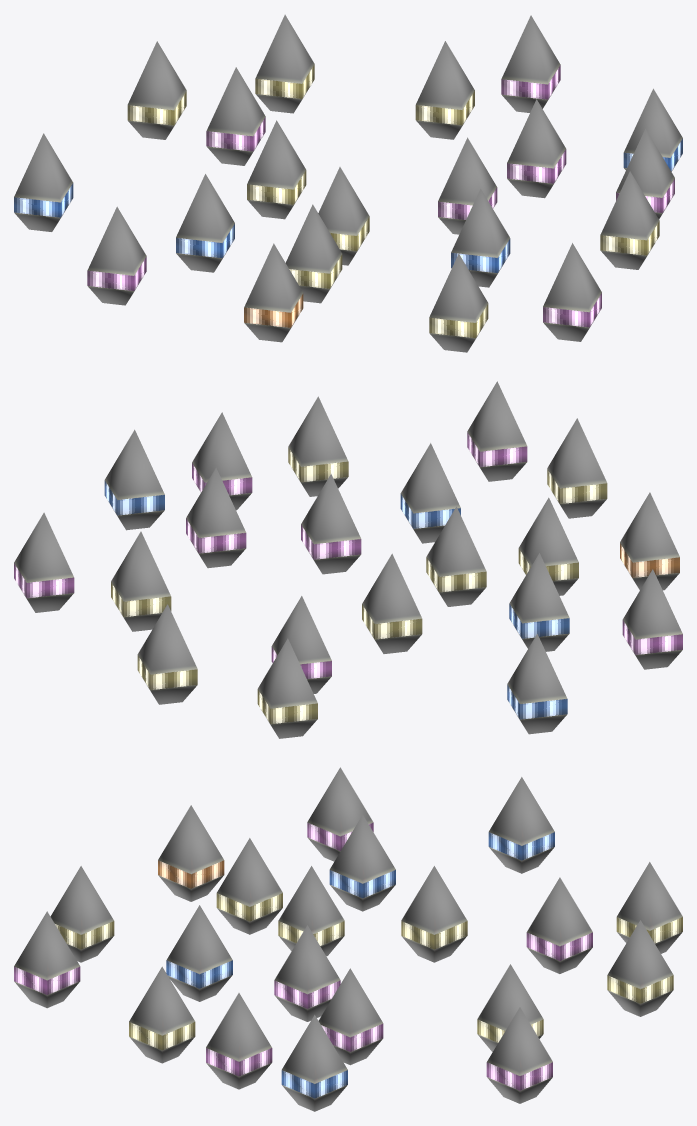
Rendered from dartpile.glb.
The picture shows the model from 3 angles, top to bottom: view 1: azimuth 30°, elevation 25°; view 2: azimuth 150°, elevation 25°; view 3: azimuth 270°, elevation 25°; orthographic projection. The views are drawn at different scales.
Visible parts, largest first — view 1: Fzr_Dart01__Mat_Dart01; view 2: Fzr_Dart01__Mat_Dart01; view 3: Fzr_Dart01__Mat_Dart01.
Part boxes in pixels (x1,y1,x2,y2): Fzr_Dart01__Mat_Dart01: (14,14,682,352); Fzr_Dart01__Mat_Dart01: (14,381,682,738); Fzr_Dart01__Mat_Dart01: (14,767,682,1111).
Size of the model in its own units: 58.94 by 9 by 60.46.
20 materials, 20 textured.
